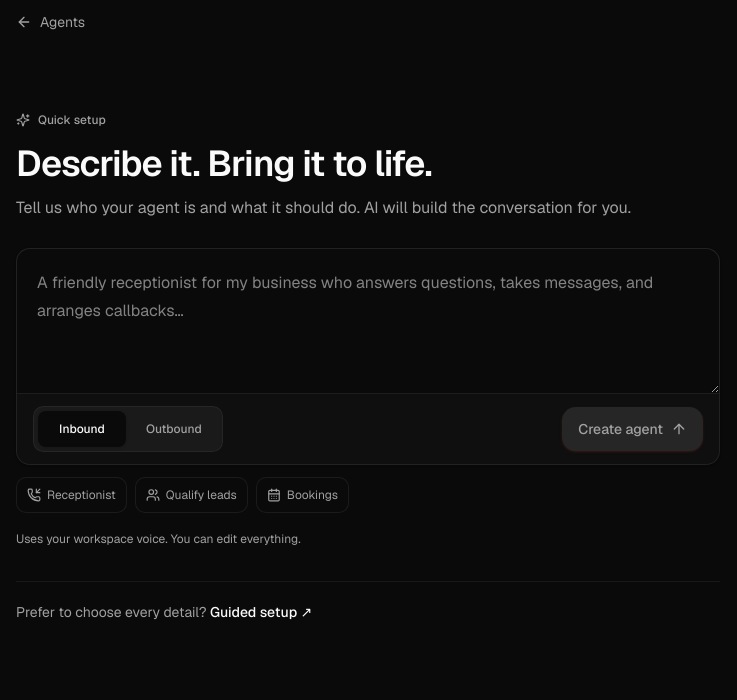
Test: Quick agent setup › does not create when workspace voice loading fails
Replace the text in the text box named "Describe your agent" with "  A friendly HVAC receptionist who collects callback details.  ": (368,321) [17,249,719,393]
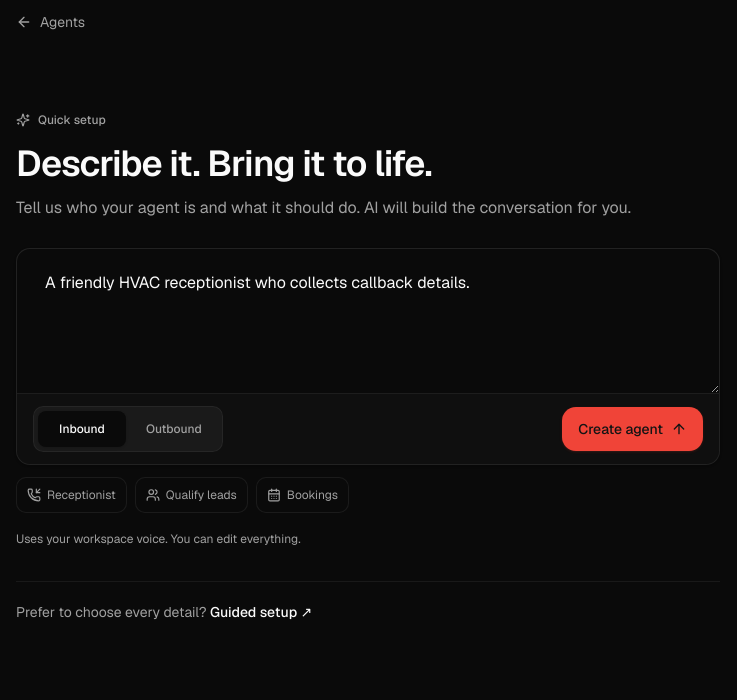
Click the button "Create agent": (633,429) [562,407,703,451]
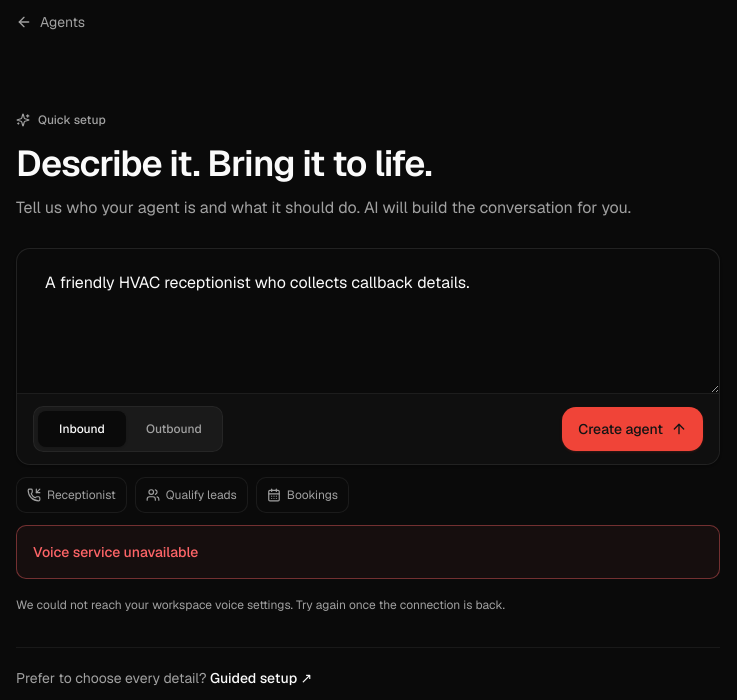
Check: the message "Voice service unavailable" is shown, box [16,525,720,579]
